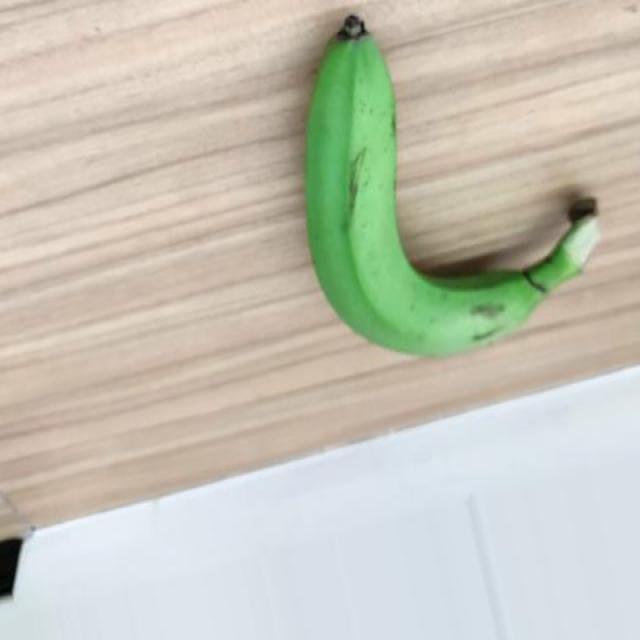Unripe: (304, 12, 601, 359)
